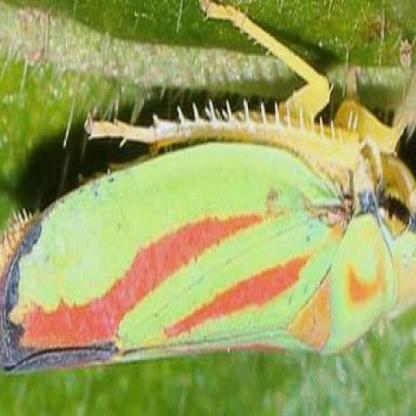green-leafhopper: (1, 116, 405, 360)
